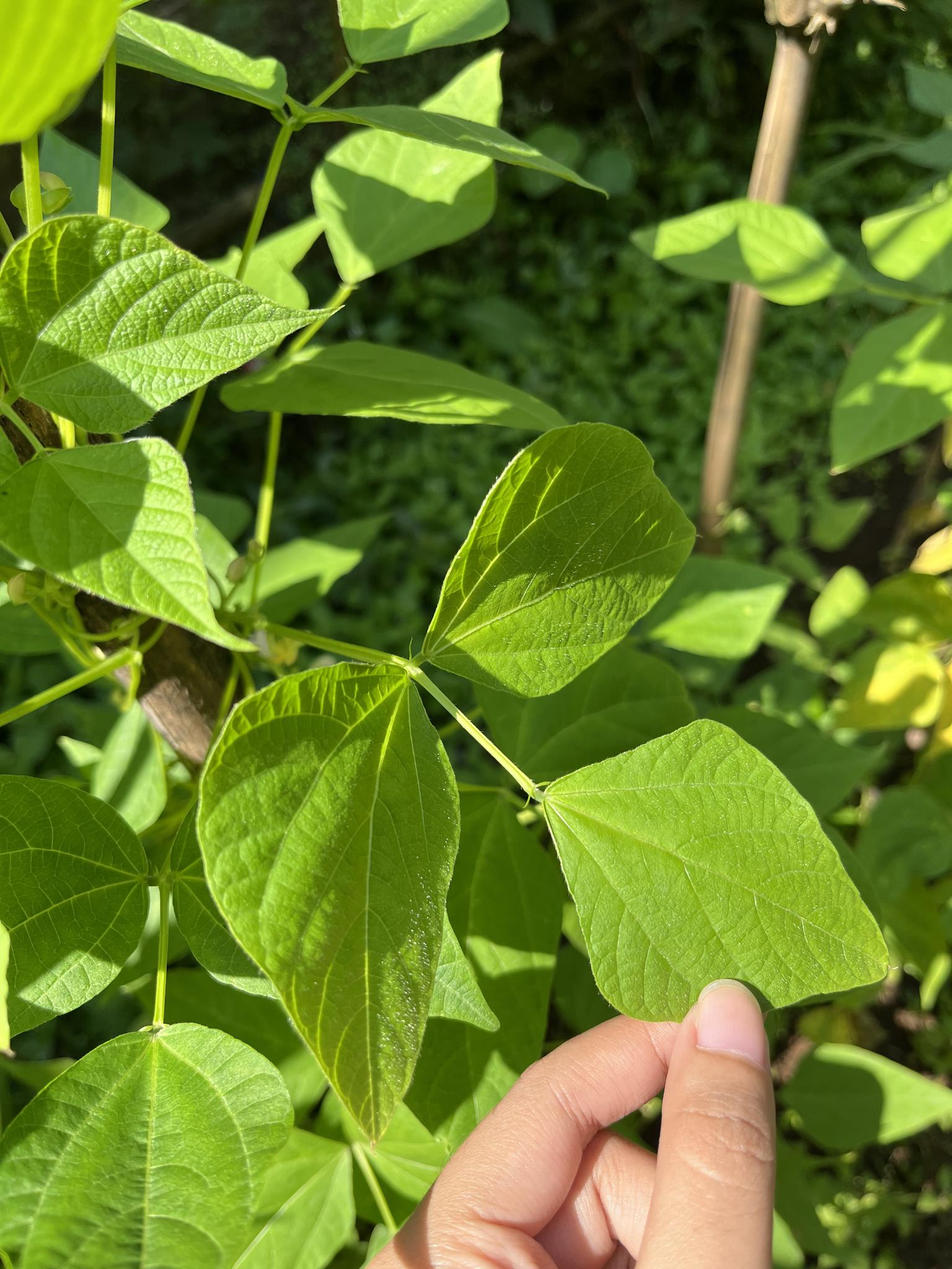sehat: (196, 660, 459, 1158)
